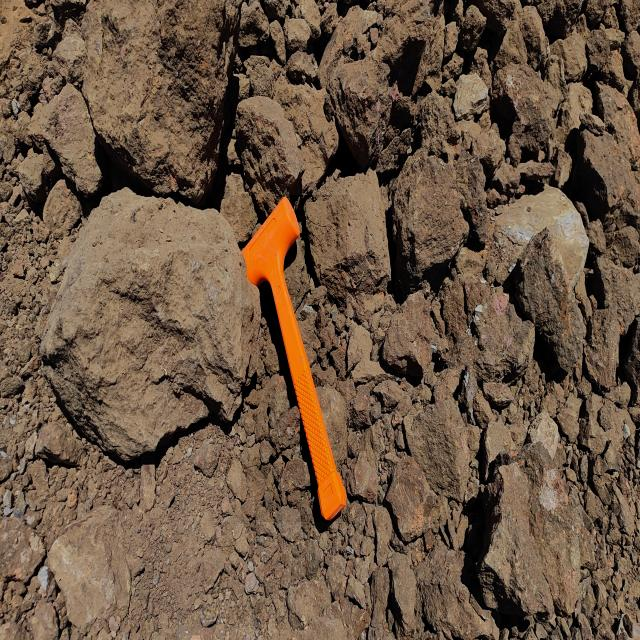Orange_hammer: (241, 195, 347, 522)
